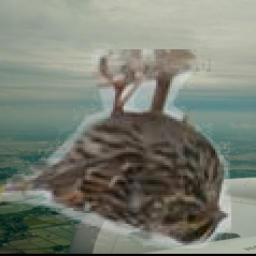Sparrow: (0, 49, 231, 249)
